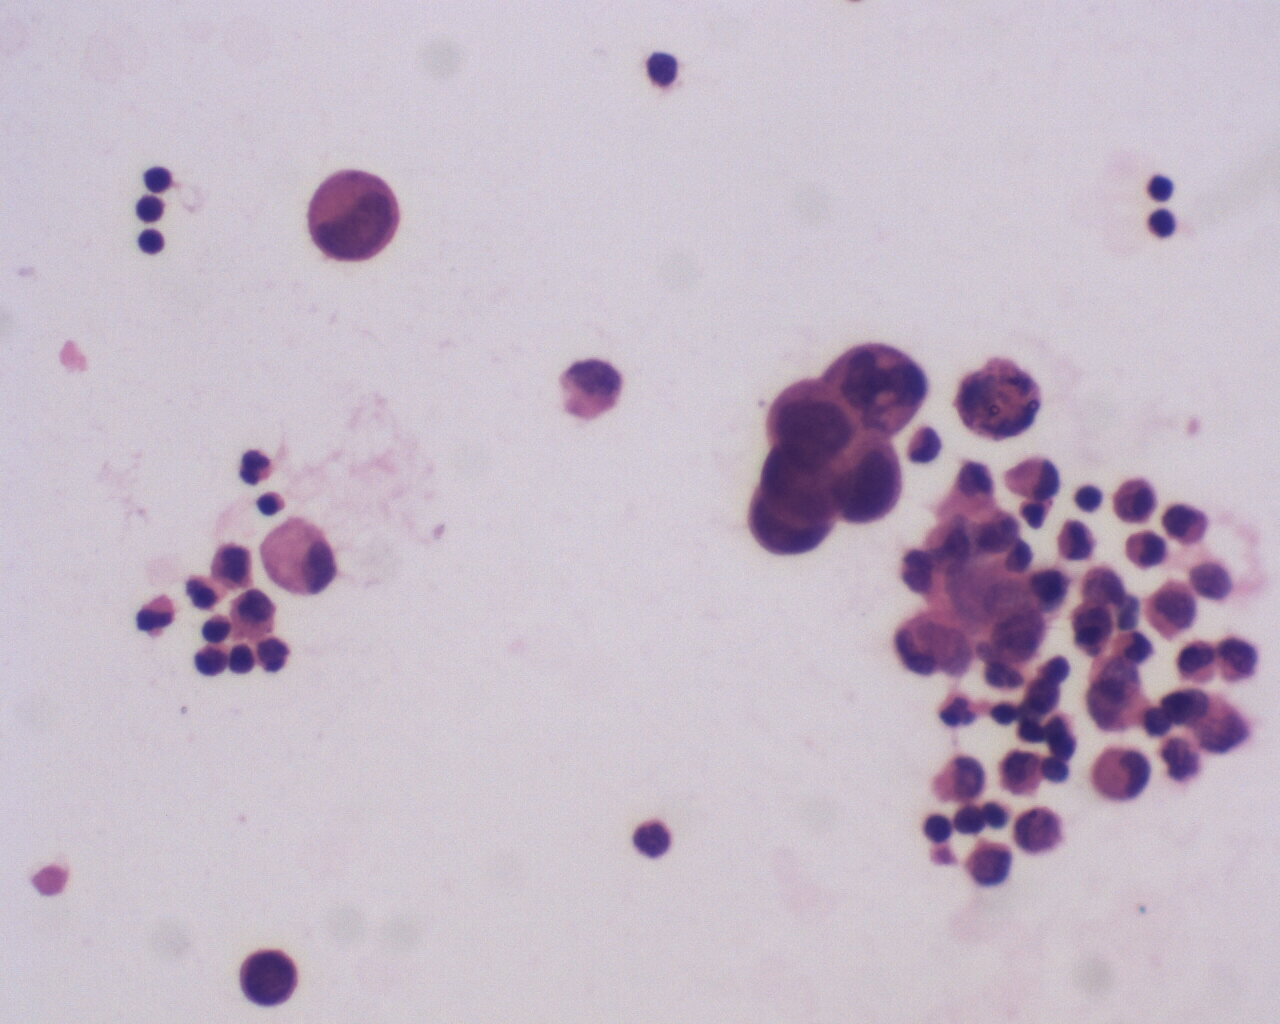ab: (305, 168, 403, 270), (760, 379, 859, 474), (830, 427, 906, 530), (236, 944, 302, 1014), (1139, 577, 1201, 646), (960, 837, 1016, 891)
histo: (259, 514, 338, 596)
lymph: (646, 46, 685, 92), (1069, 480, 1107, 520), (135, 222, 169, 258), (1142, 203, 1176, 240)
meso: (1111, 474, 1164, 528)
neutro: (234, 446, 278, 489)
